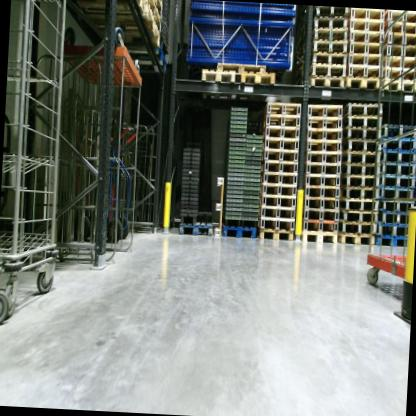pallet: (70, 0, 169, 56), (235, 68, 280, 105), (116, 46, 170, 75), (198, 67, 236, 99), (177, 208, 215, 239), (300, 26, 349, 47), (303, 37, 353, 56), (300, 64, 349, 83), (301, 49, 350, 67), (71, 0, 144, 12), (212, 172, 225, 237), (254, 227, 295, 247), (305, 7, 350, 25), (262, 98, 302, 117), (342, 100, 385, 117), (258, 182, 300, 199), (382, 54, 416, 75), (305, 113, 344, 131), (304, 99, 345, 116), (218, 223, 260, 239), (341, 114, 383, 130), (340, 139, 382, 155), (343, 77, 382, 94), (258, 125, 302, 140), (259, 112, 303, 127), (261, 137, 302, 153), (301, 196, 342, 212), (259, 218, 295, 236), (299, 76, 345, 90), (338, 209, 383, 223), (342, 196, 384, 211), (381, 31, 416, 49), (343, 161, 380, 178), (300, 218, 339, 234), (341, 127, 382, 142), (382, 67, 416, 85), (382, 42, 416, 60), (298, 232, 338, 247), (337, 221, 377, 236), (308, 15, 348, 30), (379, 161, 416, 177), (370, 224, 409, 239), (216, 61, 269, 72), (382, 11, 416, 28), (348, 28, 384, 44), (340, 186, 381, 200), (259, 193, 297, 208), (305, 139, 343, 154), (346, 52, 384, 67), (381, 20, 416, 36), (145, 0, 162, 32), (260, 172, 301, 185), (381, 138, 416, 153), (350, 8, 385, 23), (259, 148, 299, 161), (304, 129, 344, 142), (378, 175, 415, 189), (382, 125, 416, 140), (303, 173, 341, 186), (303, 186, 341, 199), (345, 64, 383, 77), (260, 161, 297, 174), (304, 162, 341, 175), (378, 211, 410, 226), (341, 176, 380, 188), (377, 79, 416, 91), (258, 206, 296, 218), (346, 42, 384, 54), (378, 188, 413, 201), (301, 209, 342, 220), (305, 152, 342, 164), (379, 199, 413, 212), (334, 234, 376, 244), (379, 152, 416, 163), (349, 19, 385, 30), (370, 237, 408, 247), (344, 153, 381, 163), (149, 0, 163, 18)
